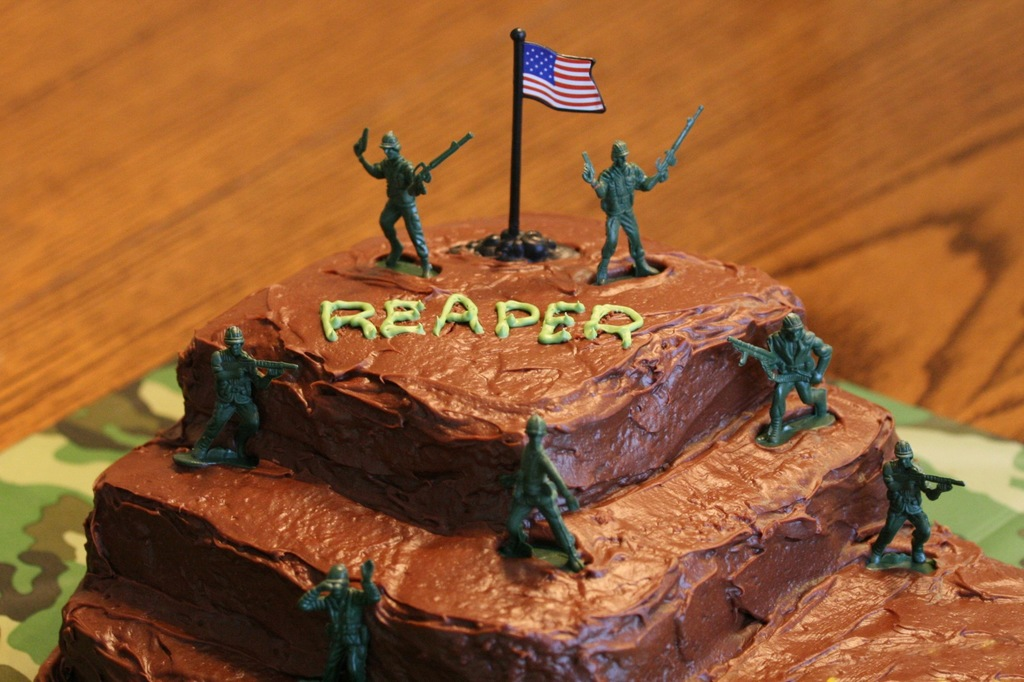cake: (34, 213, 1023, 681)
